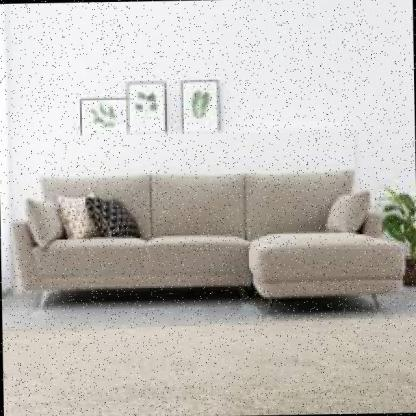Sofa: (4, 145, 414, 343)
